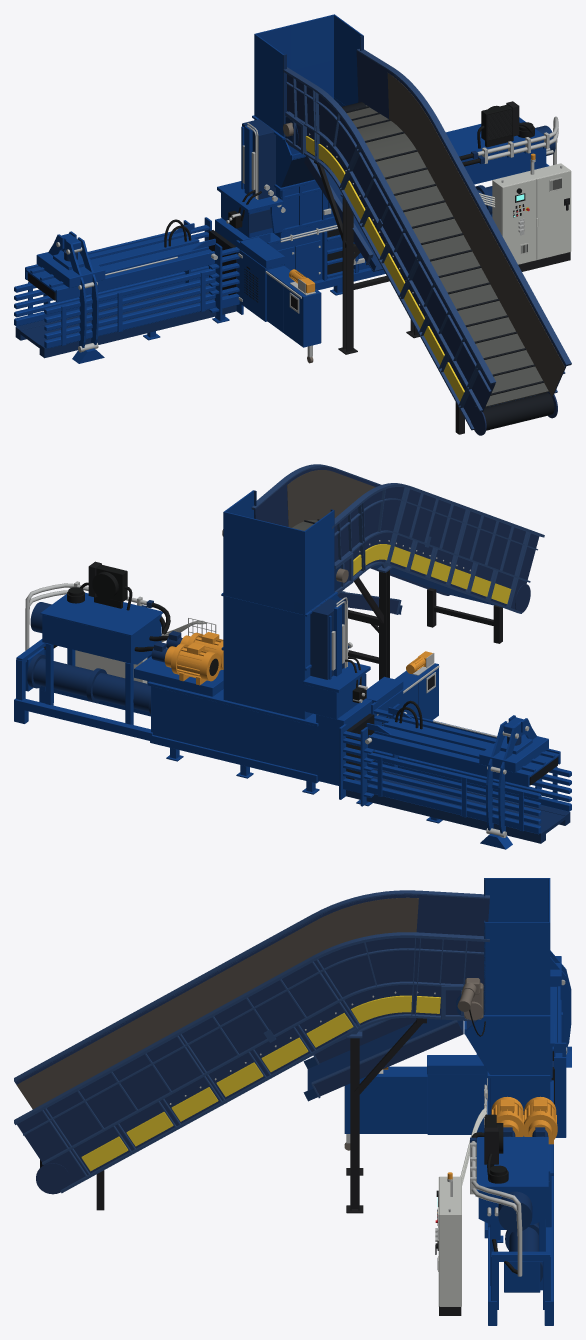
Rendered from modelo.glb.
The picture shows the model from 3 angles, top to bottom: view 1: azimuth 30°, elevation 25°; view 2: azimuth 150°, elevation 25°; view 3: azimuth 270°, elevation 25°; orthographic projection. The views are drawn at different scales.
Visible parts, largest first — view 1: Austropressen_PrensaHorizontal; view 2: Austropressen_PrensaHorizontal; view 3: Austropressen_PrensaHorizontal.
Part boxes in pixels (x1,y1,x2,y2): Austropressen_PrensaHorizontal: (14, 14, 571, 435); Austropressen_PrensaHorizontal: (14, 464, 571, 849); Austropressen_PrensaHorizontal: (14, 878, 571, 1325).
Size of the model in its own units: 12.13 by 5.65 by 9.85.
